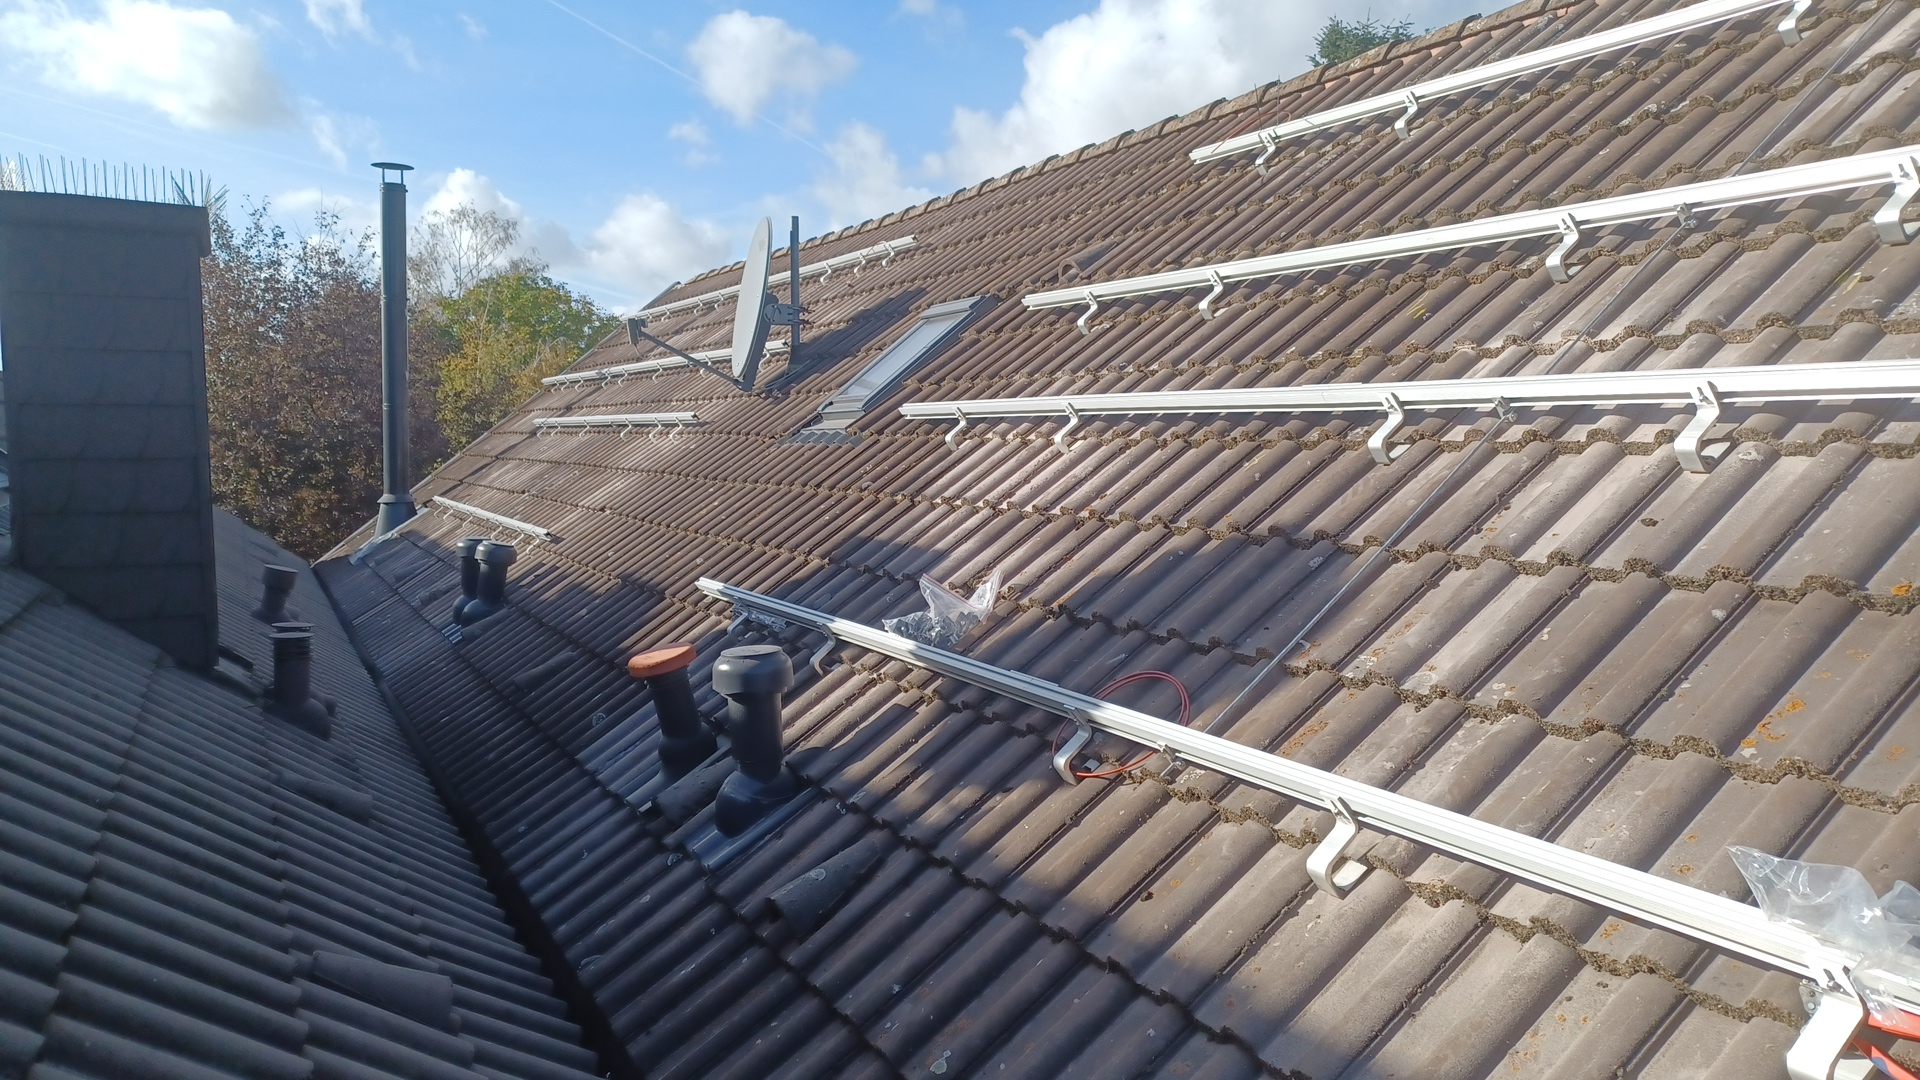hook: (1785, 953, 1876, 1080), (1305, 790, 1369, 899), (1673, 380, 1731, 472), (1873, 156, 1920, 245), (1052, 704, 1101, 785), (1367, 392, 1411, 464), (1544, 212, 1586, 284), (810, 622, 843, 676), (1778, 1, 1816, 47), (1054, 402, 1085, 454), (1197, 270, 1228, 320), (944, 406, 973, 452), (727, 596, 752, 644), (1394, 91, 1418, 138), (1077, 290, 1100, 334), (1255, 132, 1276, 175), (881, 243, 895, 272), (853, 252, 866, 278), (671, 415, 683, 444), (699, 353, 712, 378), (527, 531, 541, 556), (758, 347, 770, 372), (649, 417, 661, 442), (819, 262, 832, 285), (620, 418, 633, 440), (491, 520, 502, 542), (512, 526, 524, 549), (578, 419, 589, 440), (462, 509, 473, 530), (651, 363, 663, 382), (535, 421, 546, 440), (715, 291, 724, 313), (433, 501, 443, 520), (443, 504, 454, 522), (574, 375, 584, 392), (694, 298, 703, 316), (601, 371, 611, 389), (551, 421, 560, 439), (618, 368, 626, 386), (560, 377, 570, 393), (551, 378, 559, 396), (661, 307, 669, 323), (647, 313, 651, 322)
